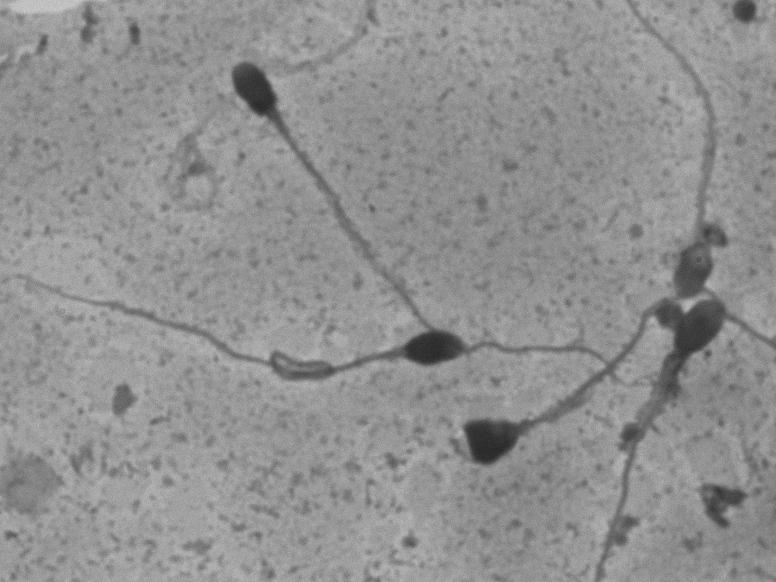Abnormal: (206, 35, 443, 302), (425, 234, 662, 493), (41, 295, 486, 387)
